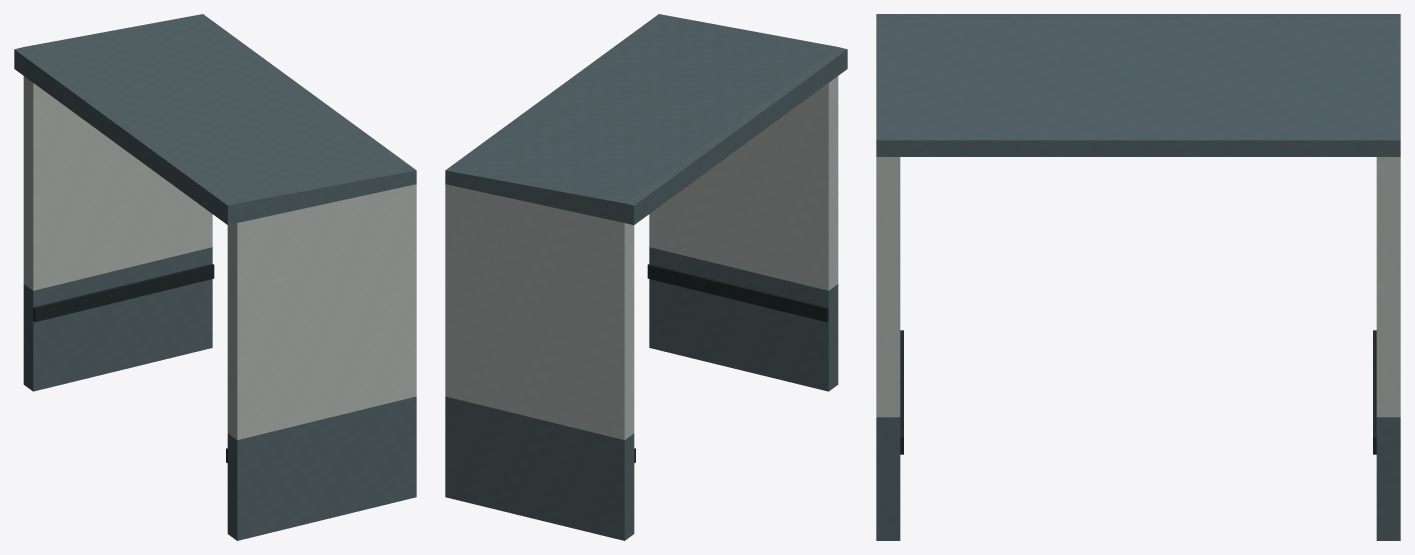
File: AST-STF-G3-012.glb
3 views of the same model, side by side, from view 1: azimuth 30°, elevation 25°; view 2: azimuth 150°, elevation 25°; view 3: azimuth 270°, elevation 25° (orthographic). The views are drawn at different scales.
Visible parts, largest first — view 1: screen_wall_staff_white_paint_dining, overhead_staff_bluegrey_paint_dining, screen_wall_staff_bluegrey_paint_dining, wall_protection_staff_rubber_dining; view 2: screen_wall_staff_white_paint_dining, overhead_staff_bluegrey_paint_dining, screen_wall_staff_bluegrey_paint_dining, wall_protection_staff_rubber_dining; view 3: overhead_staff_bluegrey_paint_dining, screen_wall_staff_white_paint_dining, screen_wall_staff_bluegrey_paint_dining, wall_protection_staff_rubber_dining.
Boxes of the visible parts, bbox=[...] form: screen_wall_staff_white_paint_dining: bbox=[23, 76, 416, 439]; overhead_staff_bluegrey_paint_dining: bbox=[14, 14, 416, 225]; screen_wall_staff_bluegrey_paint_dining: bbox=[23, 247, 416, 540]; wall_protection_staff_rubber_dining: bbox=[33, 263, 227, 462]; screen_wall_staff_white_paint_dining: bbox=[445, 76, 838, 439]; overhead_staff_bluegrey_paint_dining: bbox=[445, 14, 847, 225]; screen_wall_staff_bluegrey_paint_dining: bbox=[445, 247, 838, 540]; wall_protection_staff_rubber_dining: bbox=[634, 263, 828, 462]; overhead_staff_bluegrey_paint_dining: bbox=[876, 14, 1400, 156]; screen_wall_staff_white_paint_dining: bbox=[876, 157, 1400, 417]; screen_wall_staff_bluegrey_paint_dining: bbox=[876, 417, 1400, 540]; wall_protection_staff_rubber_dining: bbox=[900, 330, 1376, 454].
Bounding box in the file's own units: 2.02 × 3.45 × 3.96.
3 materials, 3 textured.
